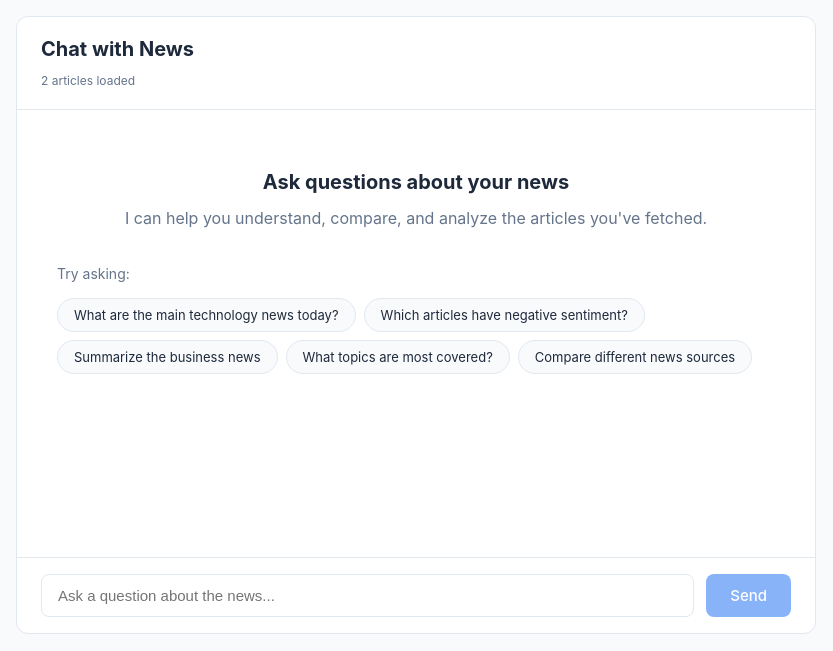
Chat › falls back to the non-streaming answer when the stream fails before any chunk
Type "What happened?" into the field labelled "Ask a question about the news" at (368,596), box top-left (41, 574), bottom-right (694, 617)
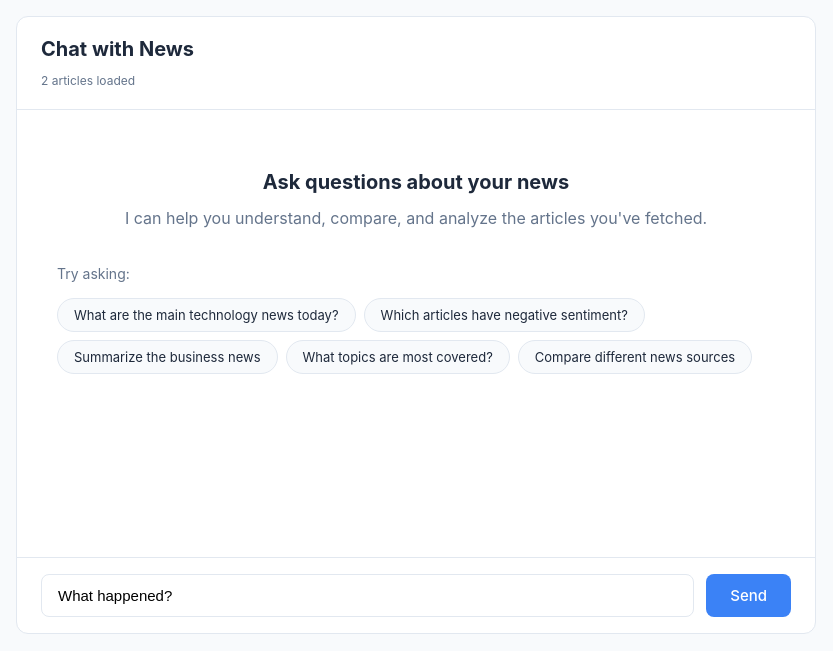
Submit the form named "Ask a question about the news", box top-left (17, 557), bottom-right (815, 633)
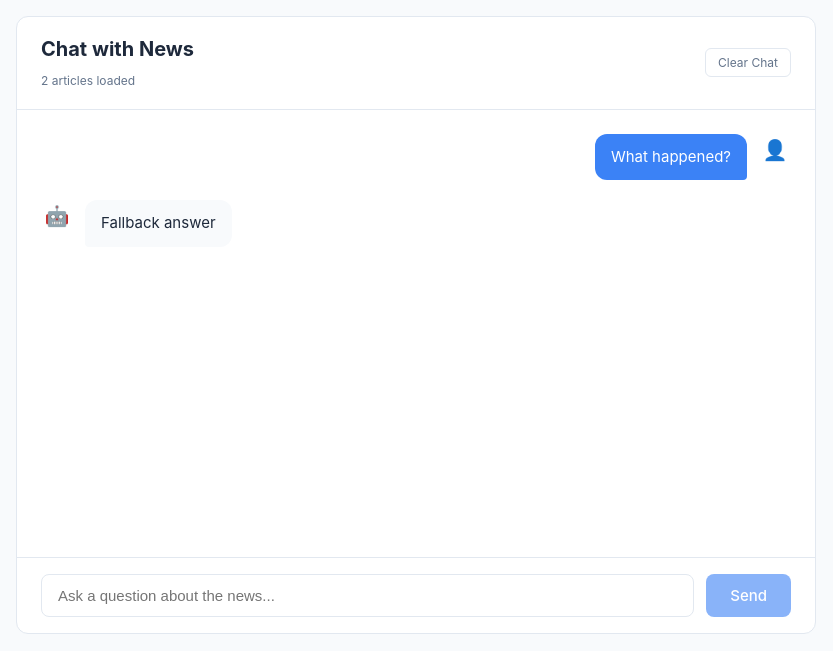
Expected: the text "Fallback answer" is shown, top-left (85, 200), bottom-right (232, 247)
